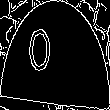O_S: (43, 28, 67, 82)
